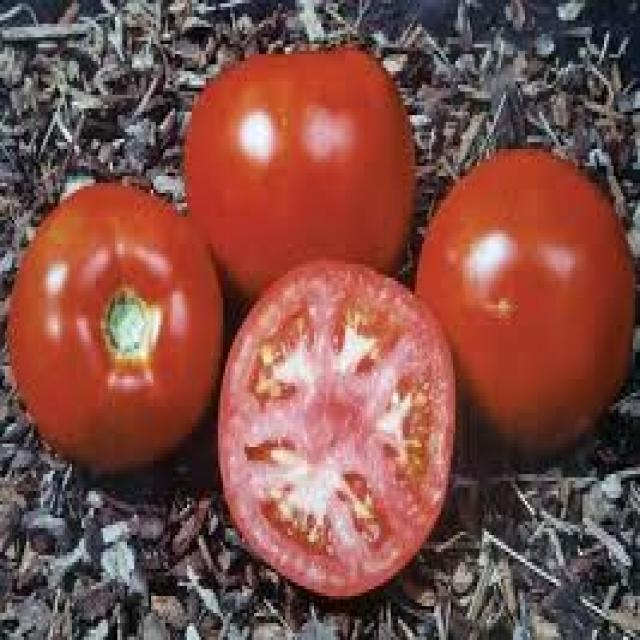Fresh_tomato: (228, 274, 450, 578), (6, 178, 212, 475), (434, 152, 633, 450), (187, 56, 406, 251)
